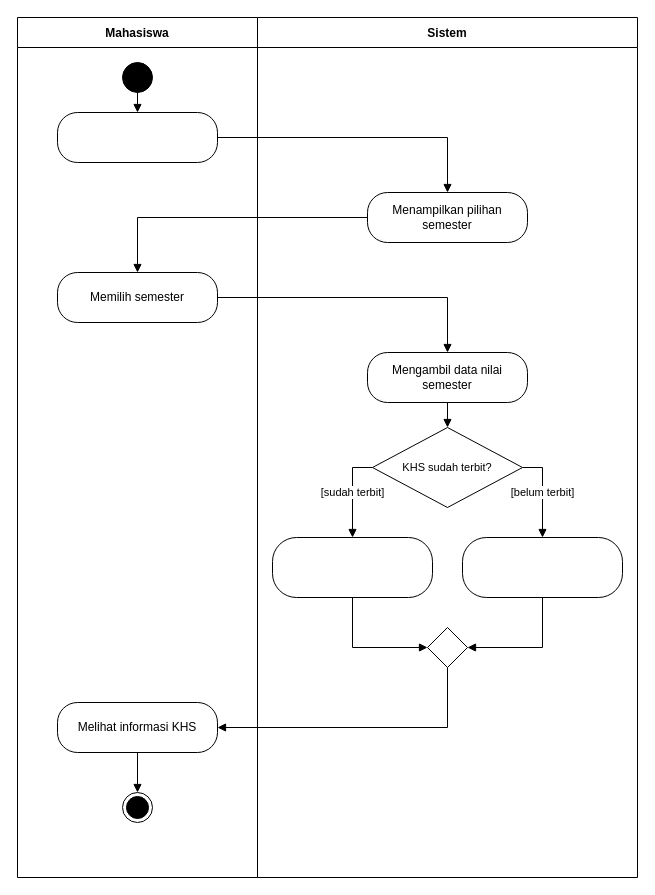
This 655x895 diagram has some shape labels left out. Here are the shapes that lost their labels. From the top down, the centre of each, then its label:
At [137,137]: "Memilih menu Lihat KHS".
At [352,567]: "Menampilkan KHS semester".
At [542,567]: "Menampilkan pesan KHS belum terbit".
